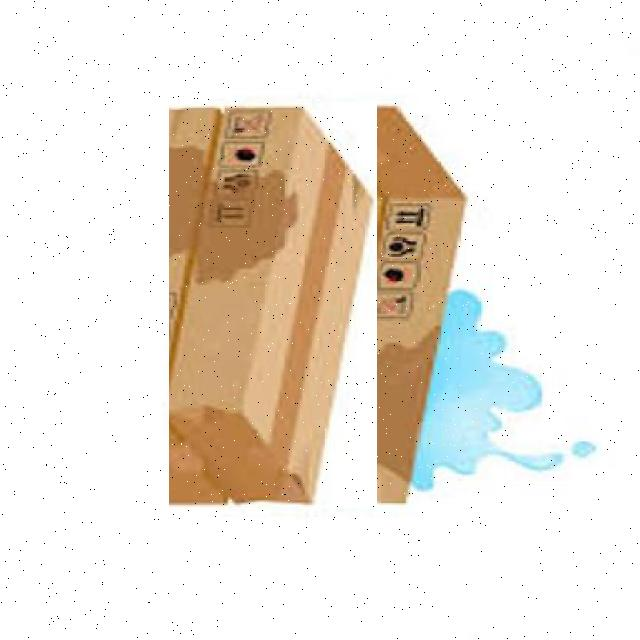defect: (169, 103, 377, 508), (320, 98, 469, 516)
